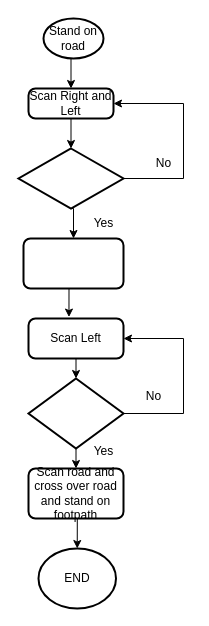
The diagram is 209 pixels wide and 626 high, and some of its shapes have lost their labels. Here are the shapes that lost their labels. From the top down, the centre of each, then its label:
At (x=70, y=178): "Vehicle are there till 100m".
At (x=73, y=263): "Scan road and cross over road and climb median".
At (x=75, y=413): "No vehicle are there".
